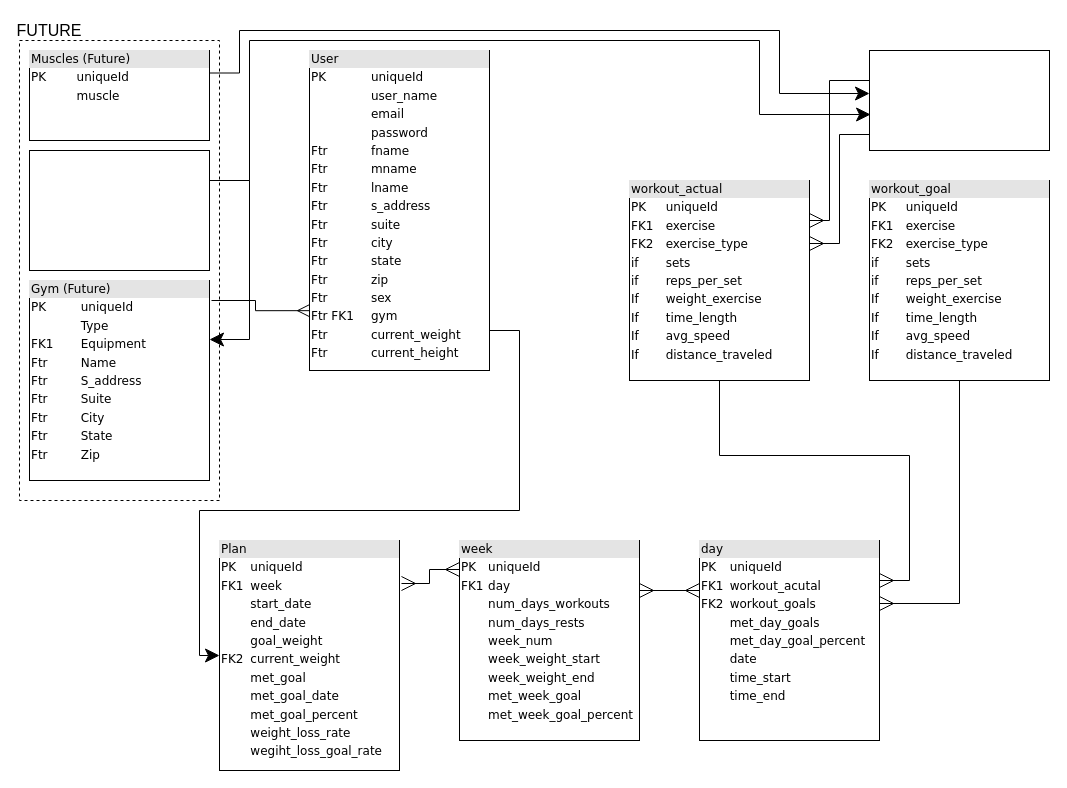
This 1067x788 diagram has some shape labels left out. Here are the shapes that lost their labels. From the top down, the centre of each, then its label:
At (959,100): "Exercise PK uniqueId FK1 muscles FK2 equipment aType".
At (119,210): "Equipment (Future) PK uniqueId Name type min_weight max_weight".
